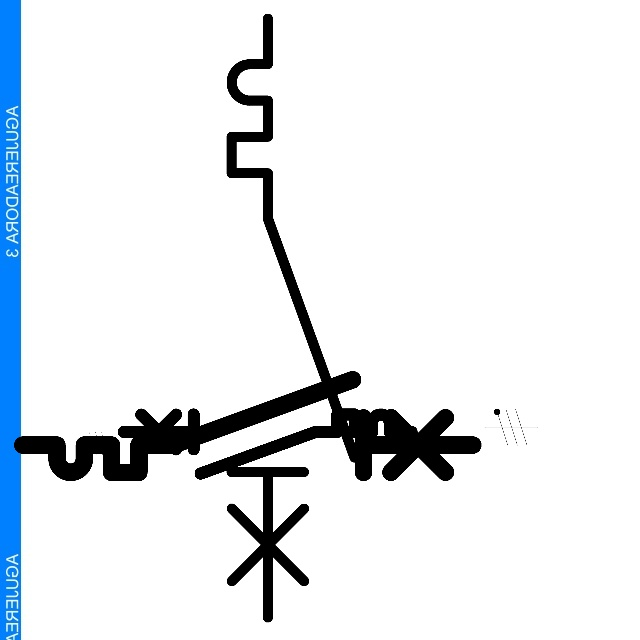interruptor_termomagnetico: (216, 3, 370, 633), (11, 368, 484, 484), (116, 407, 419, 481)
